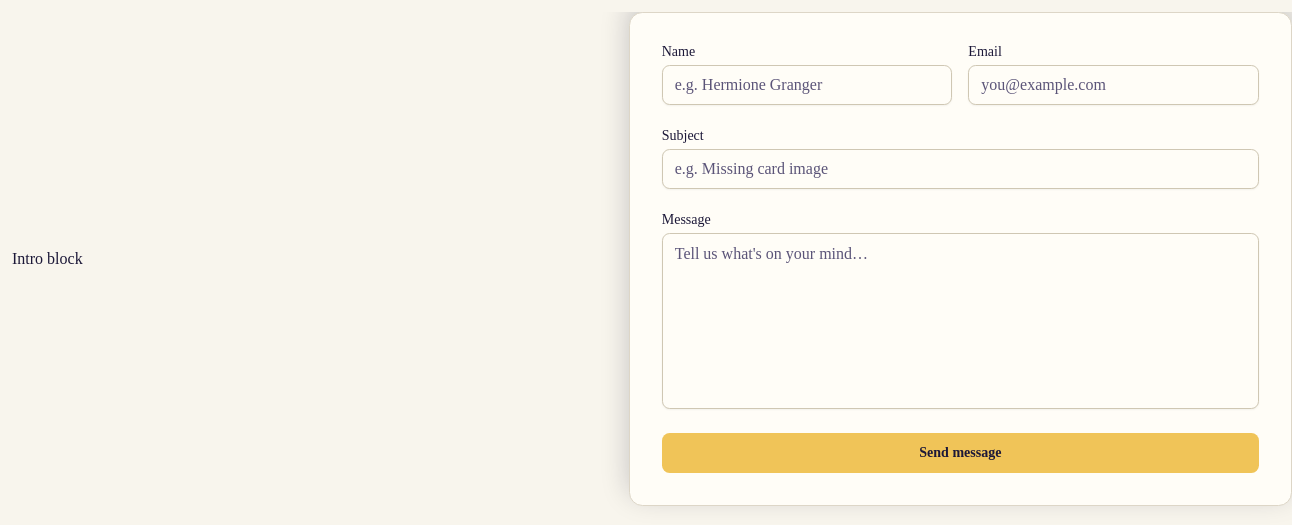
ContactForm › submits valid input and shows the success message
Type "Hermione" into the field labelled "Name" at point(807, 85), box [662,65,952,105]
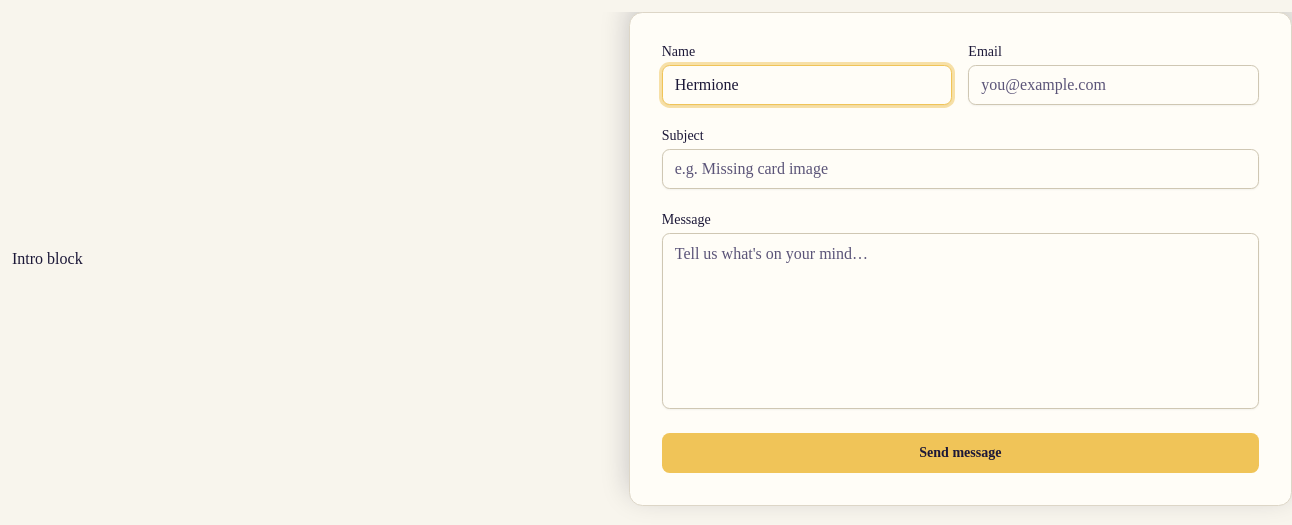
Type "hermione@example.com" into the field labelled "Email" at point(1114, 85), box [968,65,1259,105]
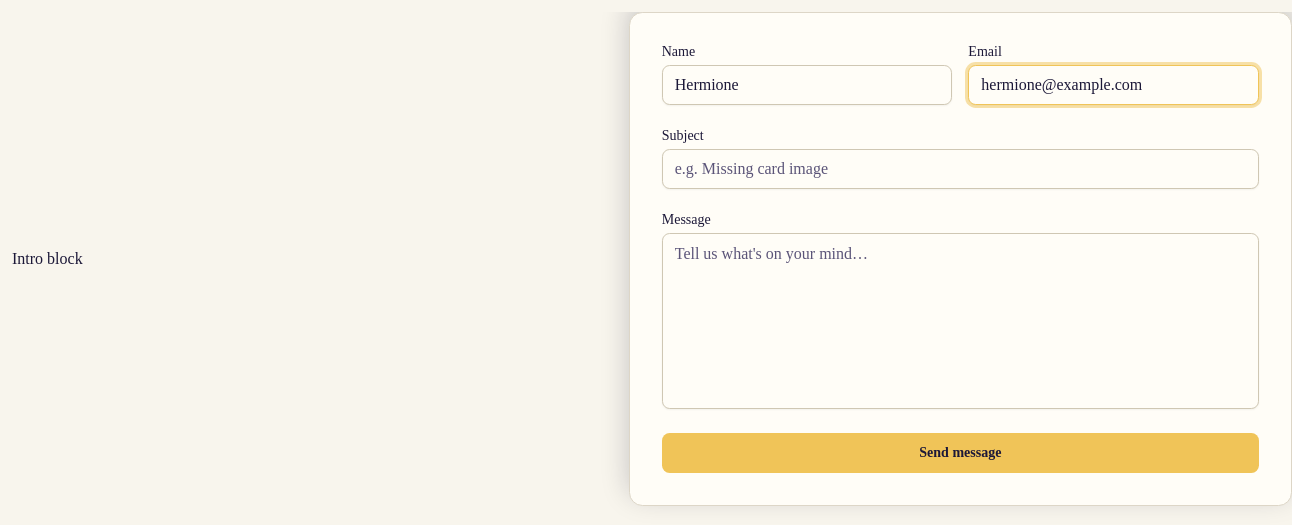
Type "Card data typo" into the field labelled "Subject" at point(960, 169), box [662,149,1259,189]
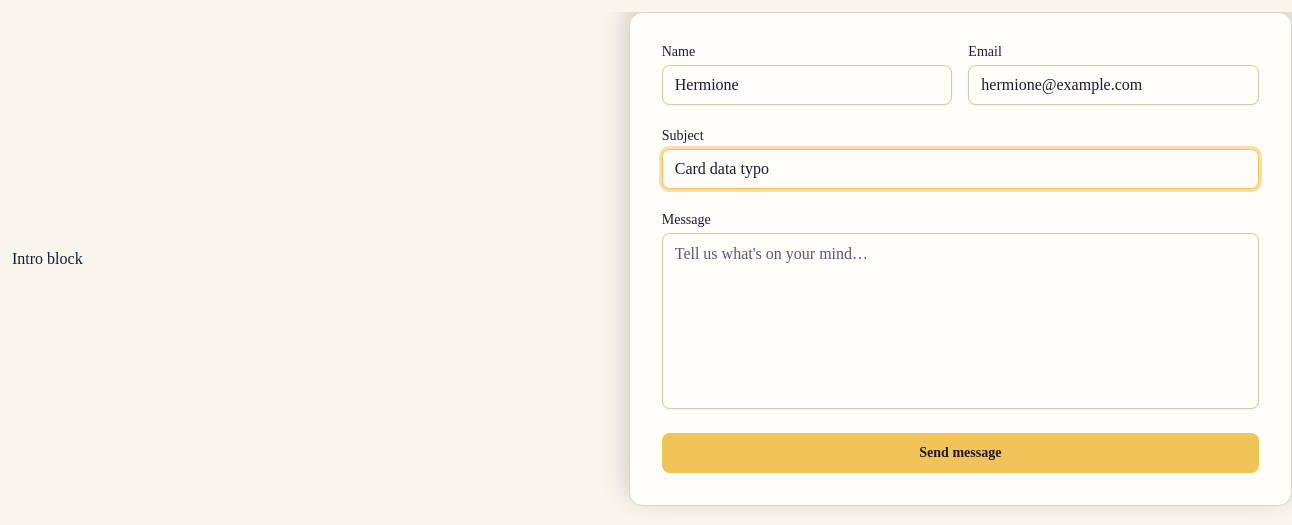
Type "The Lumos card has the wrong lesson cost listed." into the text box labelled "Message" at point(960, 321), box [662,233,1259,409]
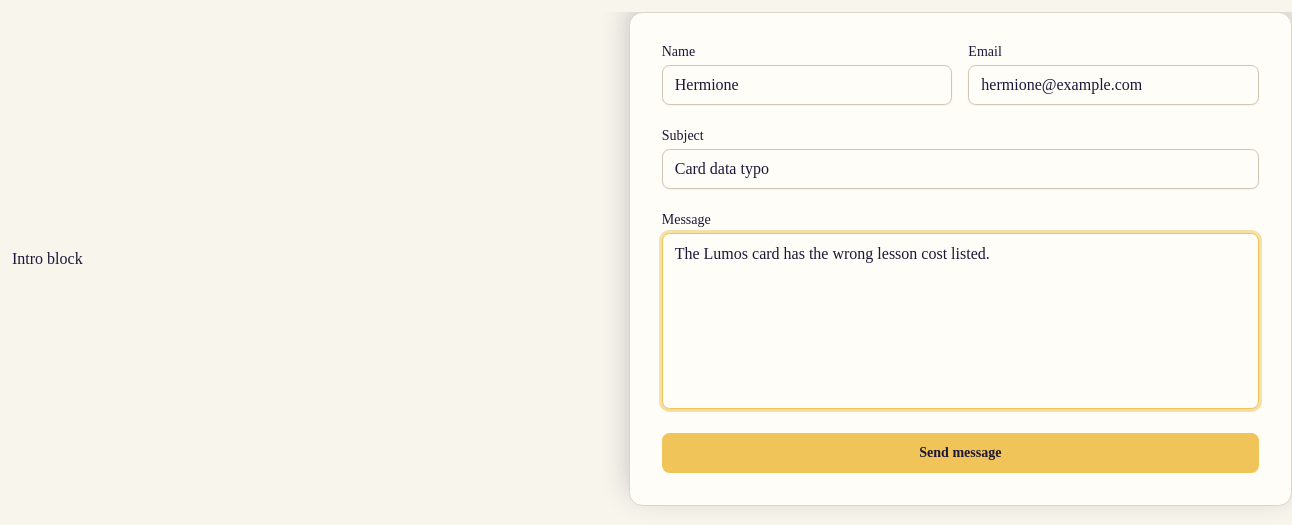
Click the button "Send message" at point(960, 453), box [662,433,1259,473]
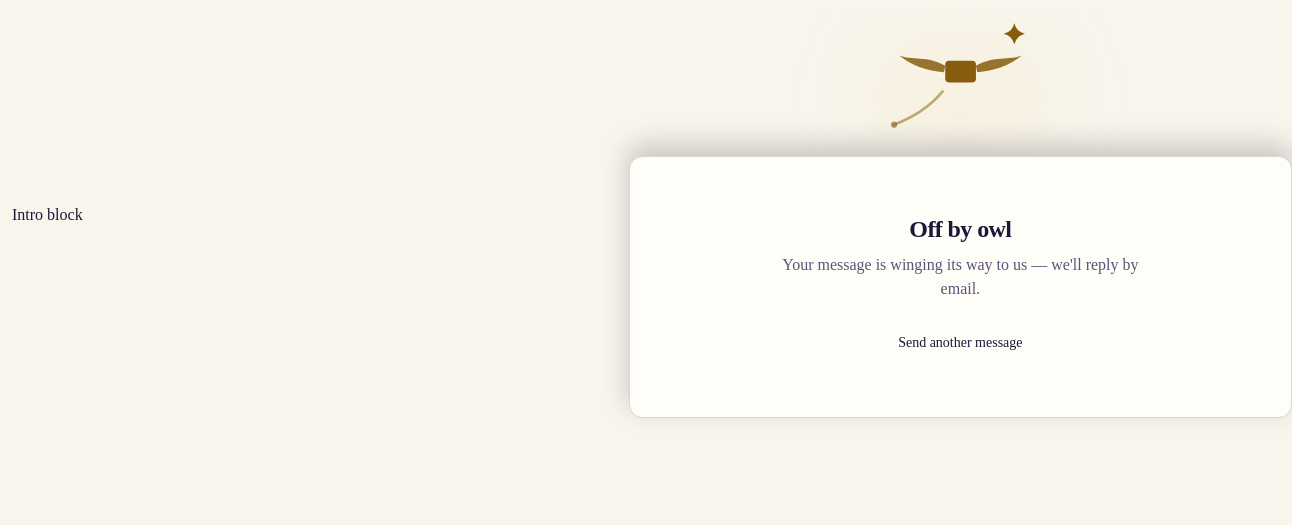
expect the heading "Off by owl" is shown: met, box [909,213,1011,245]
